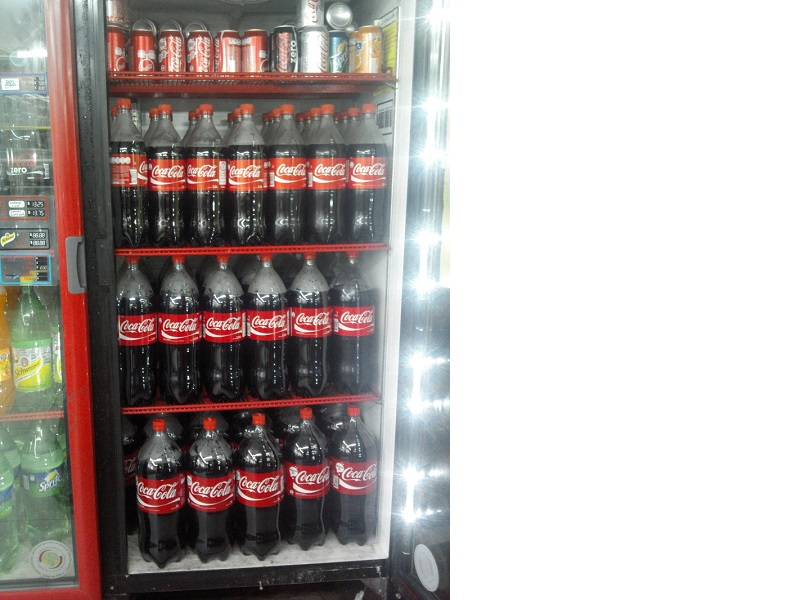lemonade: (132, 414, 193, 580), (180, 410, 243, 569), (98, 97, 159, 253), (328, 401, 386, 556), (136, 103, 196, 249), (157, 252, 209, 416), (113, 254, 165, 413), (290, 249, 343, 405), (233, 413, 287, 565), (203, 253, 255, 408), (283, 406, 335, 559), (306, 101, 356, 254), (246, 254, 296, 402), (184, 99, 231, 256), (261, 101, 311, 248), (221, 101, 269, 253)
